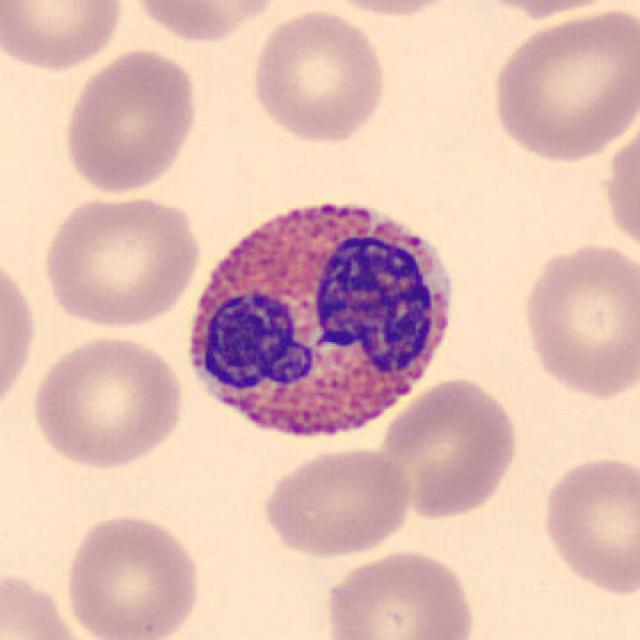Eosinophil: (172, 180, 470, 460)
RBC: (38, 188, 204, 332), (486, 5, 636, 164), (27, 332, 186, 472), (373, 374, 523, 522), (59, 44, 201, 198), (247, 5, 389, 146), (518, 236, 638, 402), (258, 442, 418, 560), (60, 509, 204, 640), (320, 546, 480, 640), (537, 451, 638, 598), (0, 0, 128, 74), (124, 0, 288, 46), (0, 566, 98, 640), (0, 243, 39, 423), (599, 114, 638, 264), (460, 0, 628, 21), (311, 0, 469, 19)
